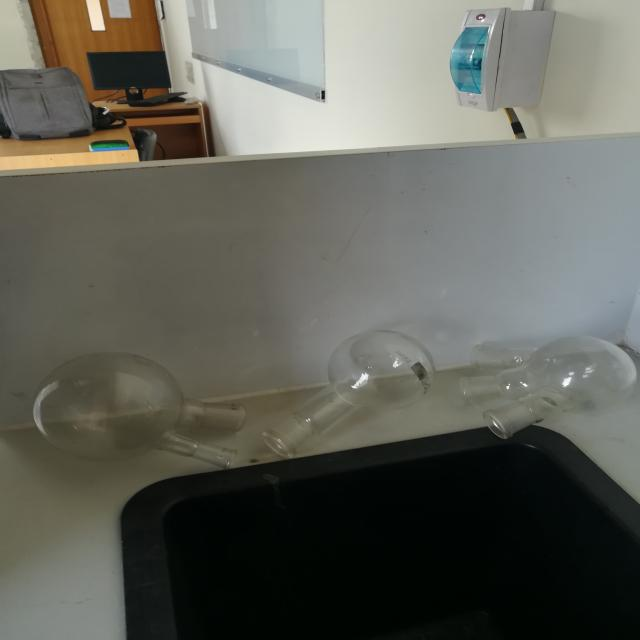Round_Bottom_Flask_Borosilicate_Glass_1_Neck: (239, 296, 461, 460)
Round_Bottom_Flask_Borosilicate_Glass_2_Neck: (18, 324, 276, 494)
Round_Bottom_Flask_Borosilicate_Glass_3_Neck: (426, 296, 640, 456)
